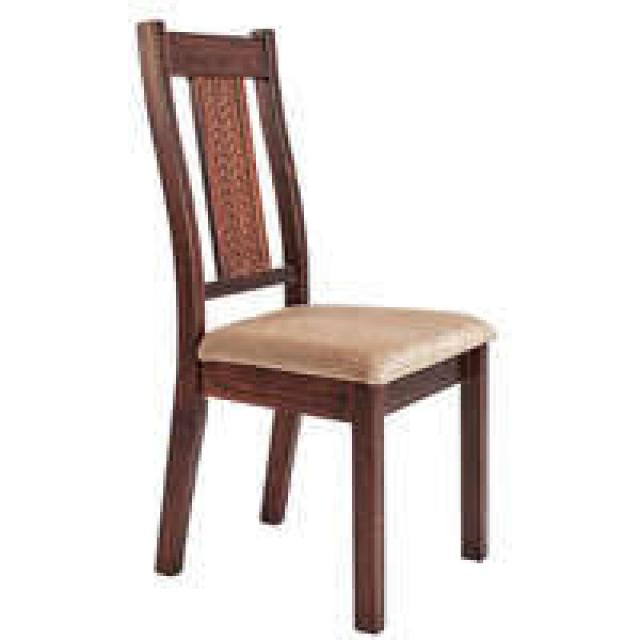bottle: (132, 18, 500, 632)
